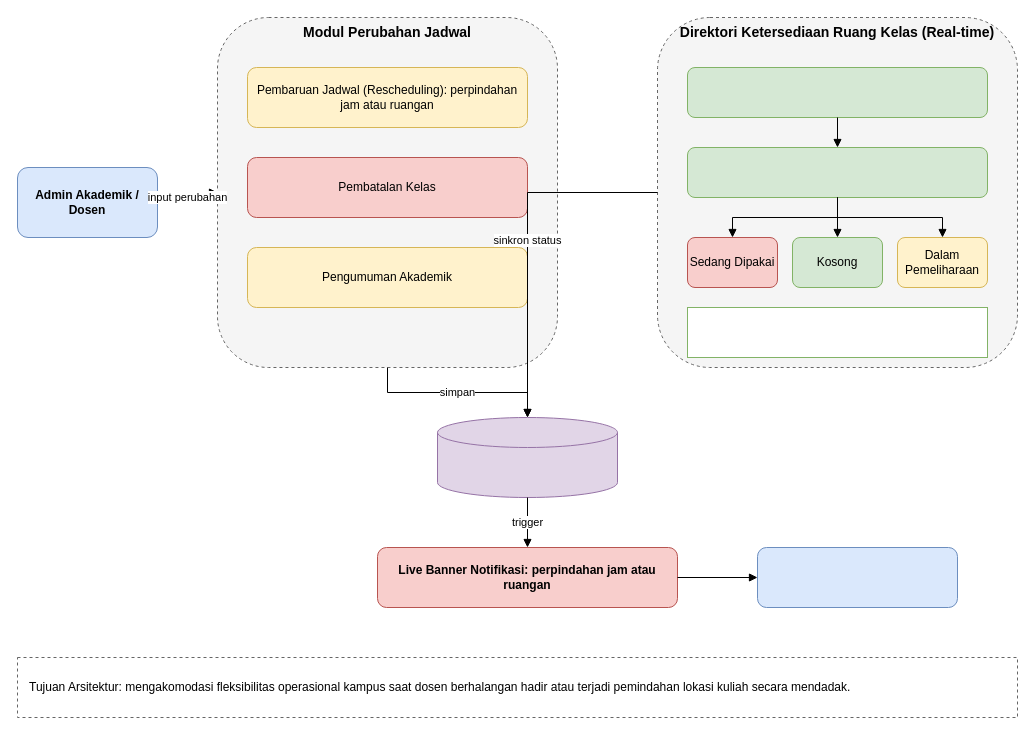
The diagram is 1035 pixels wide and 735 high, and some of its shapes have lost their labels. The centre of each missing label's shape, as x and y in pixels:
Daftar Ruangan dan Status: the point at 837,172
Database Jadwal dan Ruangan: the point at 527,457
Direktori Gedung Kampus: the point at 837,92
Kapasitas dan Fasilitas: proyektor, AC, jumlah kursi: the point at 837,332
Mahasiswa dan Dosen: the point at 857,577
